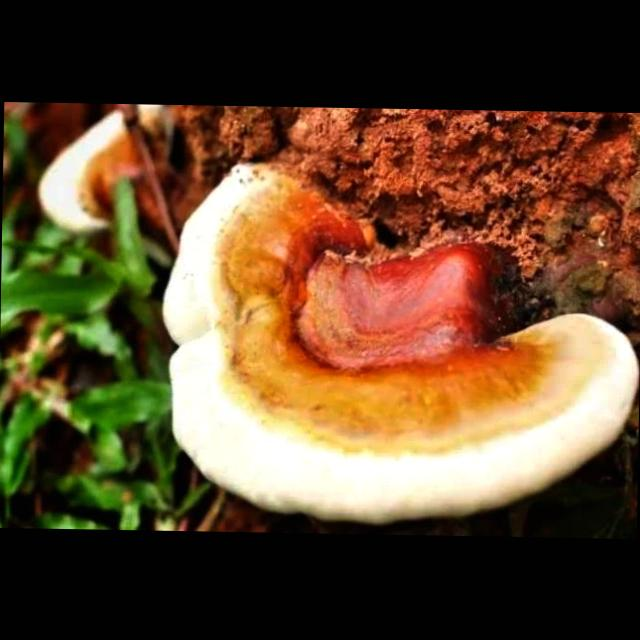ganoderma: (157, 155, 640, 533), (36, 104, 176, 237)
